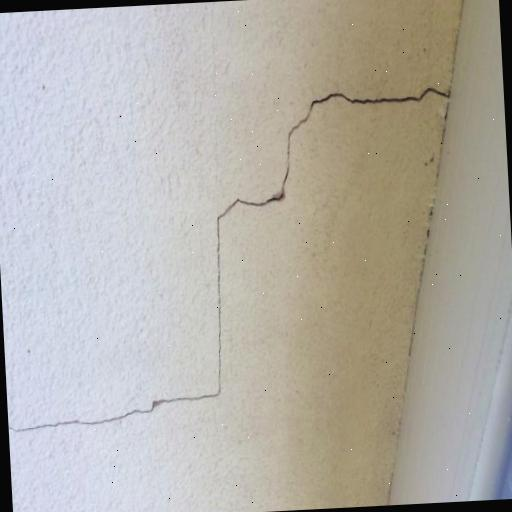spalling: (12, 76, 439, 441)
